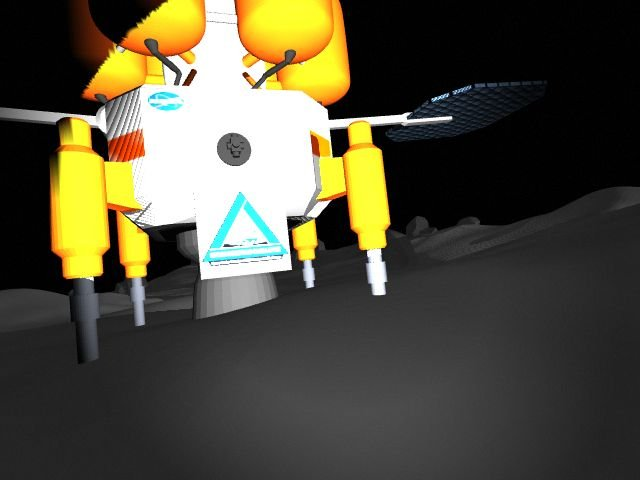basemarker: (201, 190, 290, 270)
